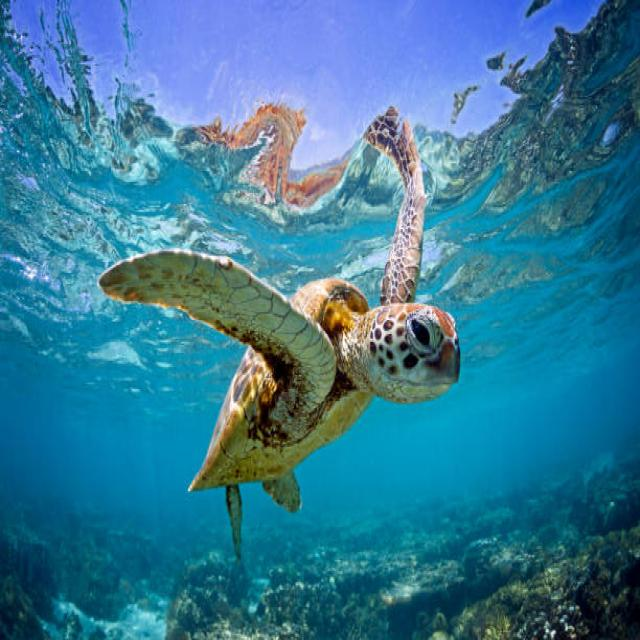sea turtle: (193, 267, 375, 548), (84, 238, 275, 345), (354, 270, 476, 422), (378, 113, 426, 315)
